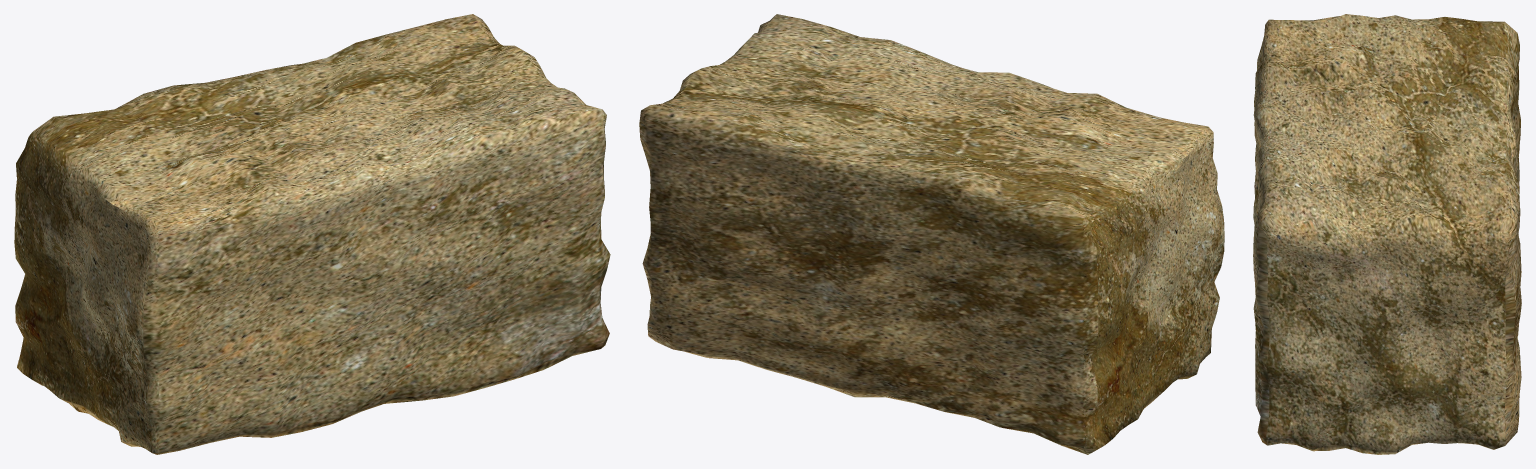
The model's file is StoneBlock1.4.dae.
3 renders of one model, left to right at view 1: azimuth 30°, elevation 25°; view 2: azimuth 150°, elevation 25°; view 3: azimuth 270°, elevation 25°, orthographic. The views are drawn at different scales.
Visible parts, largest first — view 1: Stone_block; view 2: Stone_block; view 3: Stone_block.
Part boxes in pixels (x1,y1,x2,y2): Stone_block: [14, 14, 610, 454]; Stone_block: [639, 14, 1224, 454]; Stone_block: [1253, 14, 1521, 454].
Size of the model in its own units: 418 by 216 by 217.
